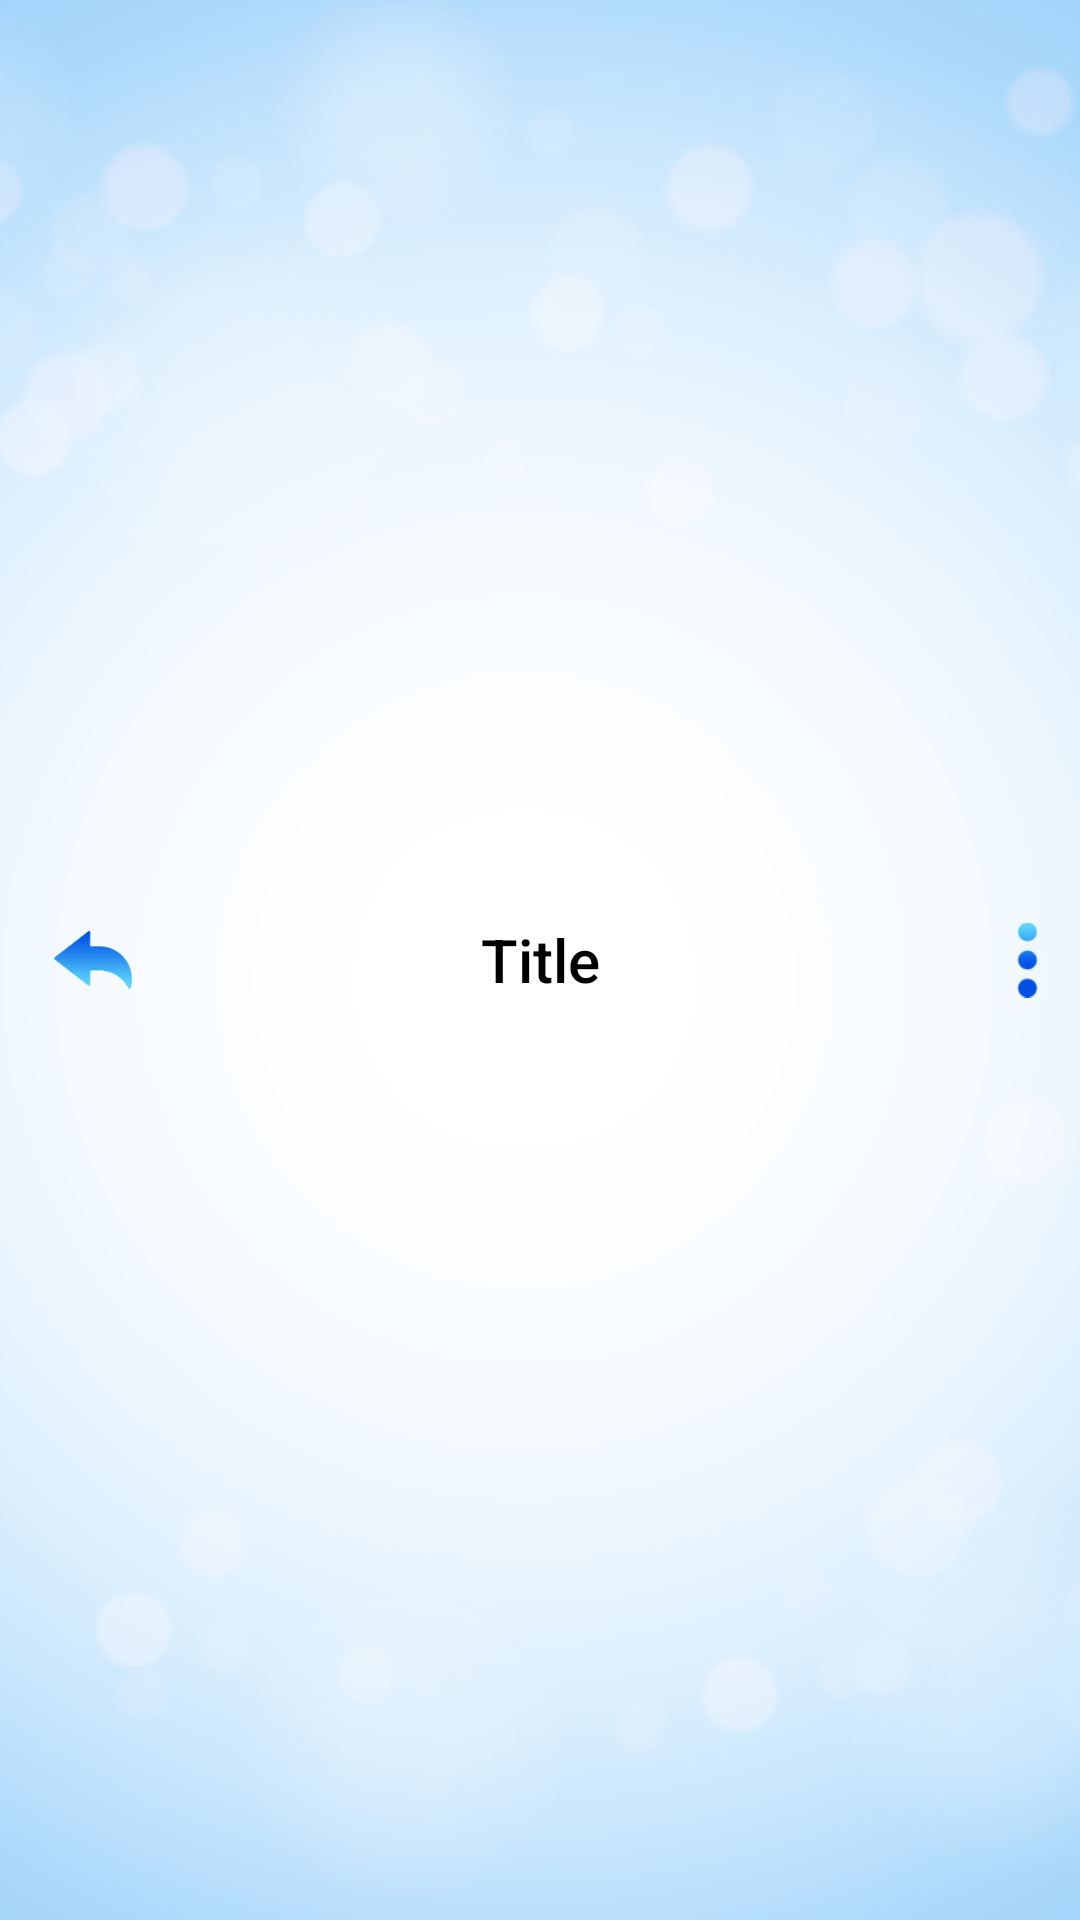

Point at icon controls on the screen. Image size 1080x1920, points as [x,y].
back: [93,960]
options: [1027,960]
